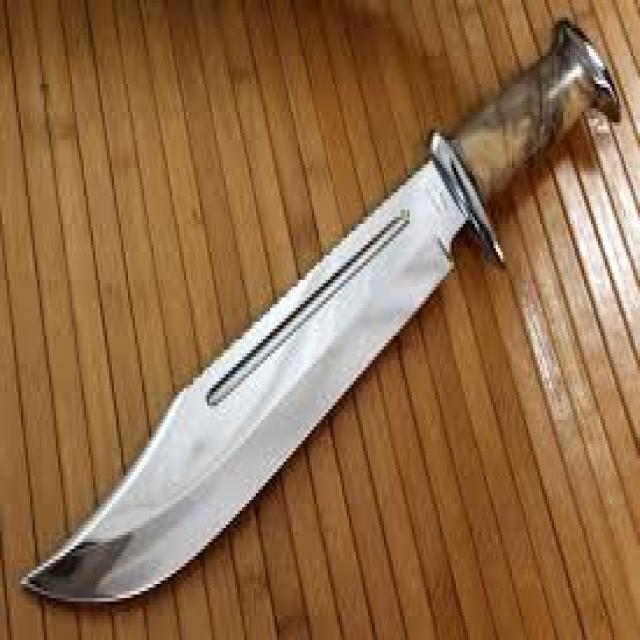knives: (19, 14, 624, 612)
